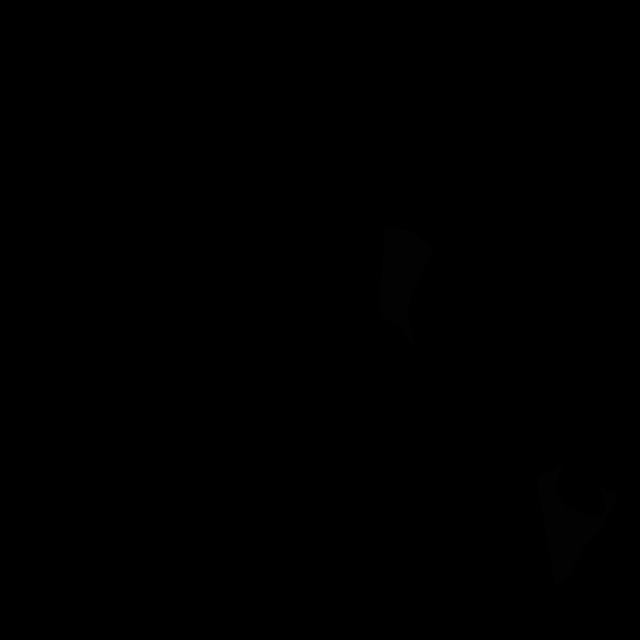cardboard: (536, 461, 618, 588), (379, 228, 433, 352)
